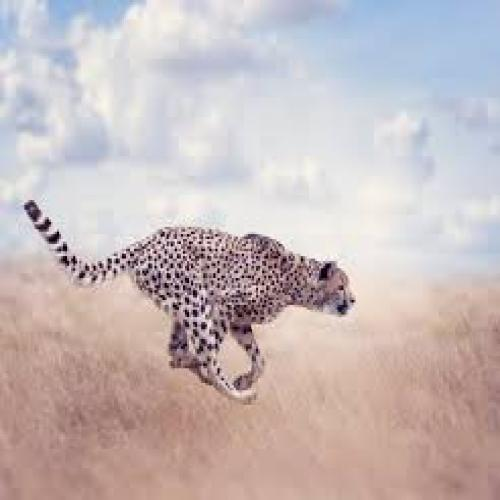cheetah-endangered: (20, 198, 360, 406)
